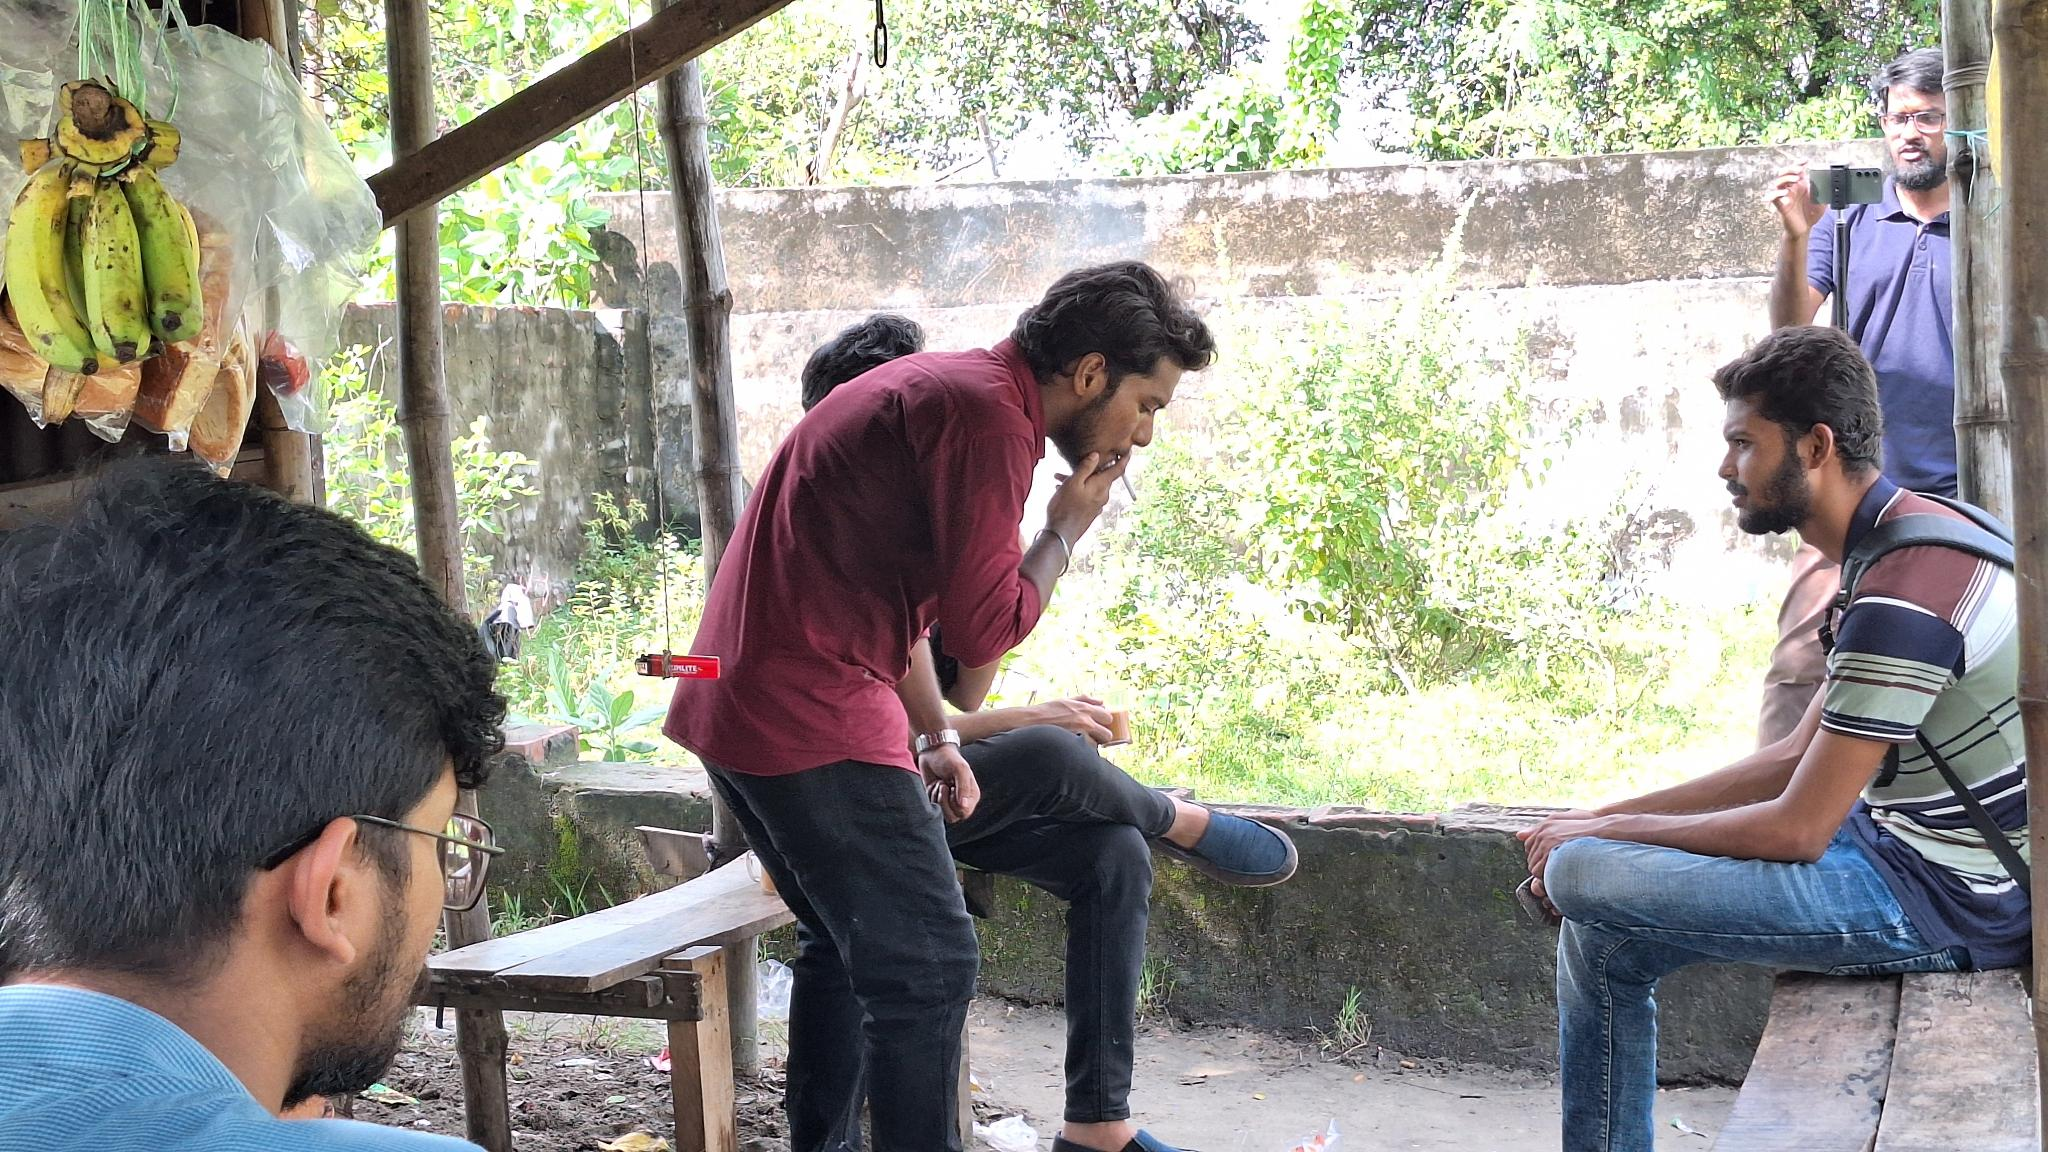cigarette: (1108, 453, 1142, 508)
nonSmoker: (1509, 329, 2025, 1152), (0, 473, 505, 1152), (1772, 56, 1965, 502)
smoker: (665, 257, 1222, 1152)
